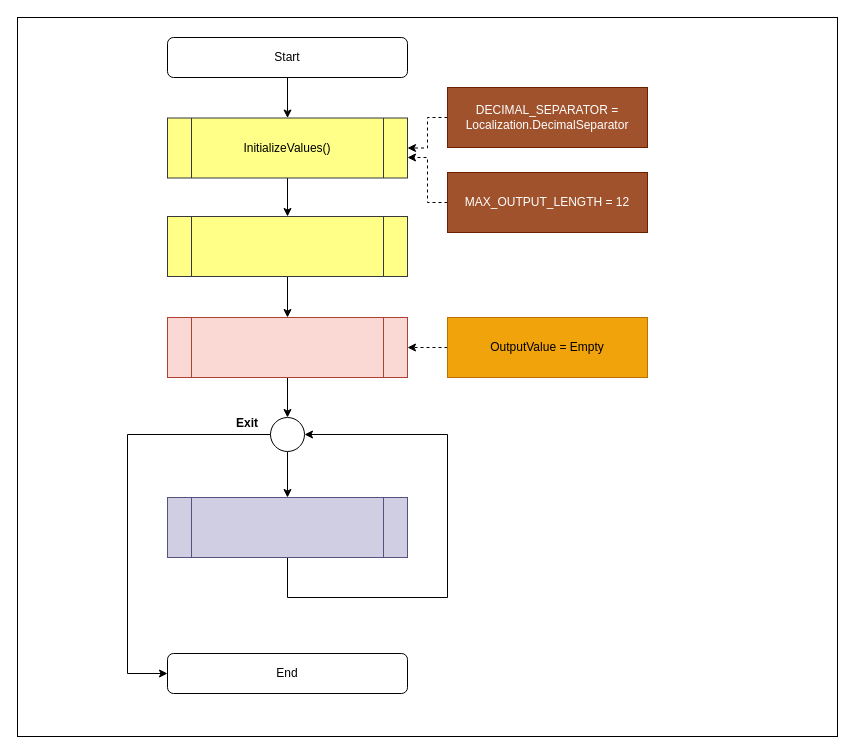
The diagram is 855 pixels wide and 754 high, and some of its shapes have lost their labels. Here are the shapes that lost their labels. From the top down, the centre of each, then its label:
At [287,246]: "ResetValues()".
At [287,347]: "DisplayOutput()".
At [287,527]: "ReadInput()".
